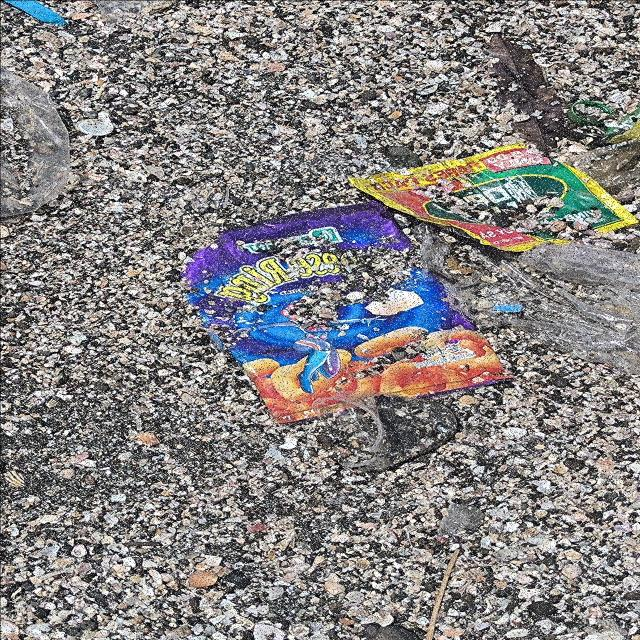plastic_waste: (180, 202, 517, 425), (348, 143, 640, 253)
